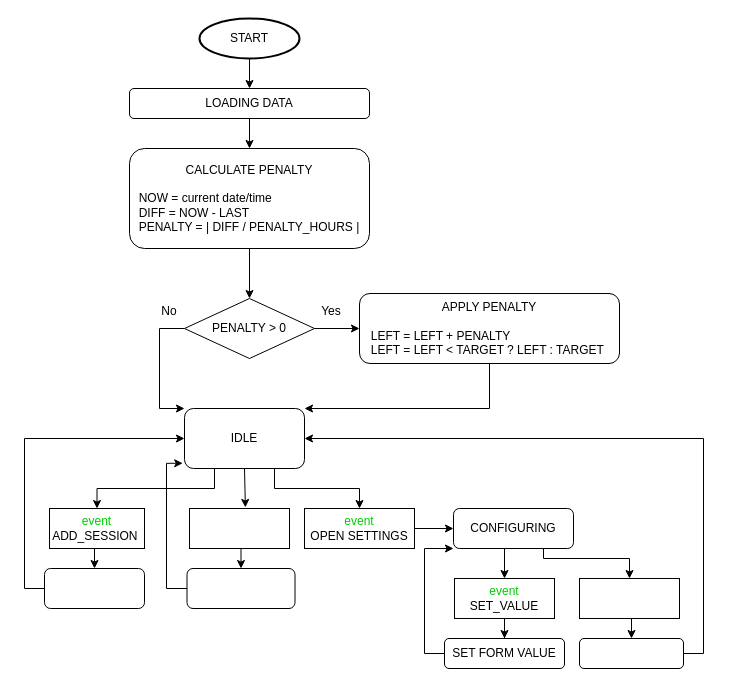
Some shapes in this 729 by 686 pixel diagram are drawn without their labels. The shapes that lost their labels are listed below. From the top down, each one's centre as x and y in pixels, then its label:
At (239,528): "event RESET".
At (94,588): "LEFT = LEFT - 1 LAST = NOW".
At (240,588): "LEFT = TARGET LAST = null".
At (629,598): "event SAVE".
At (631,653): "STORE VALUES".
